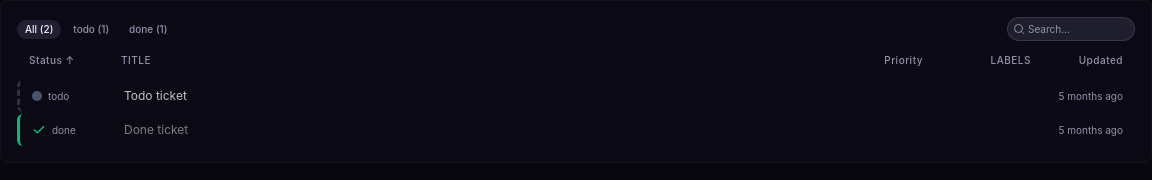
it: TicketListView › status filter › filters tickets by status when a filter is clicked
The image size is (1152, 180).
Click the button "done (1)": (148, 29) [121,20,175,38]
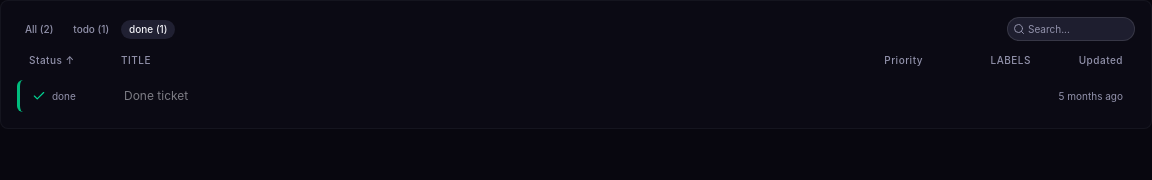
expect the text "Done ticket" is shown: met, box [124,88,188,104]
expect the button "Todo ticket" is gone: met
